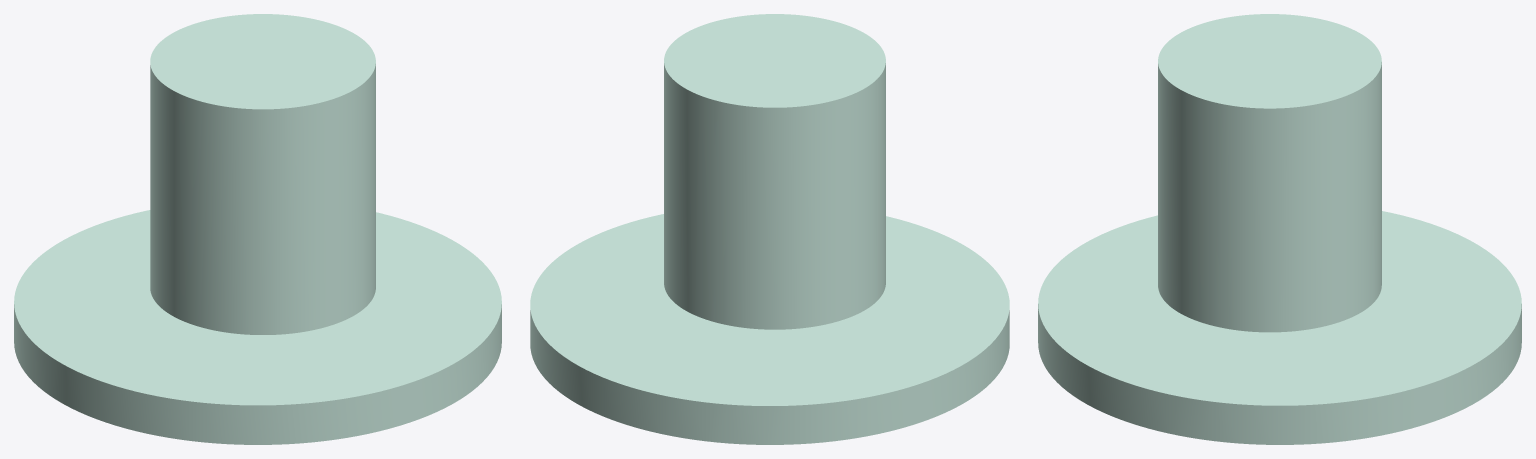
The picture shows the model from 3 angles, left to right: view 1: azimuth 30°, elevation 25°; view 2: azimuth 150°, elevation 25°; view 3: azimuth 270°, elevation 25°; orthographic projection.
Parts seen in each view (by area): view 1: Renderer Node; view 2: Renderer Node; view 3: Renderer Node.
Boxes of the visible parts, x1,y1,x2,y2 form: Renderer Node: (14,14,501,444); Renderer Node: (530,14,1009,444); Renderer Node: (1038,14,1521,444).
Bounding box in the file's own units: 1.48 × 0.9531 × 1.48.
